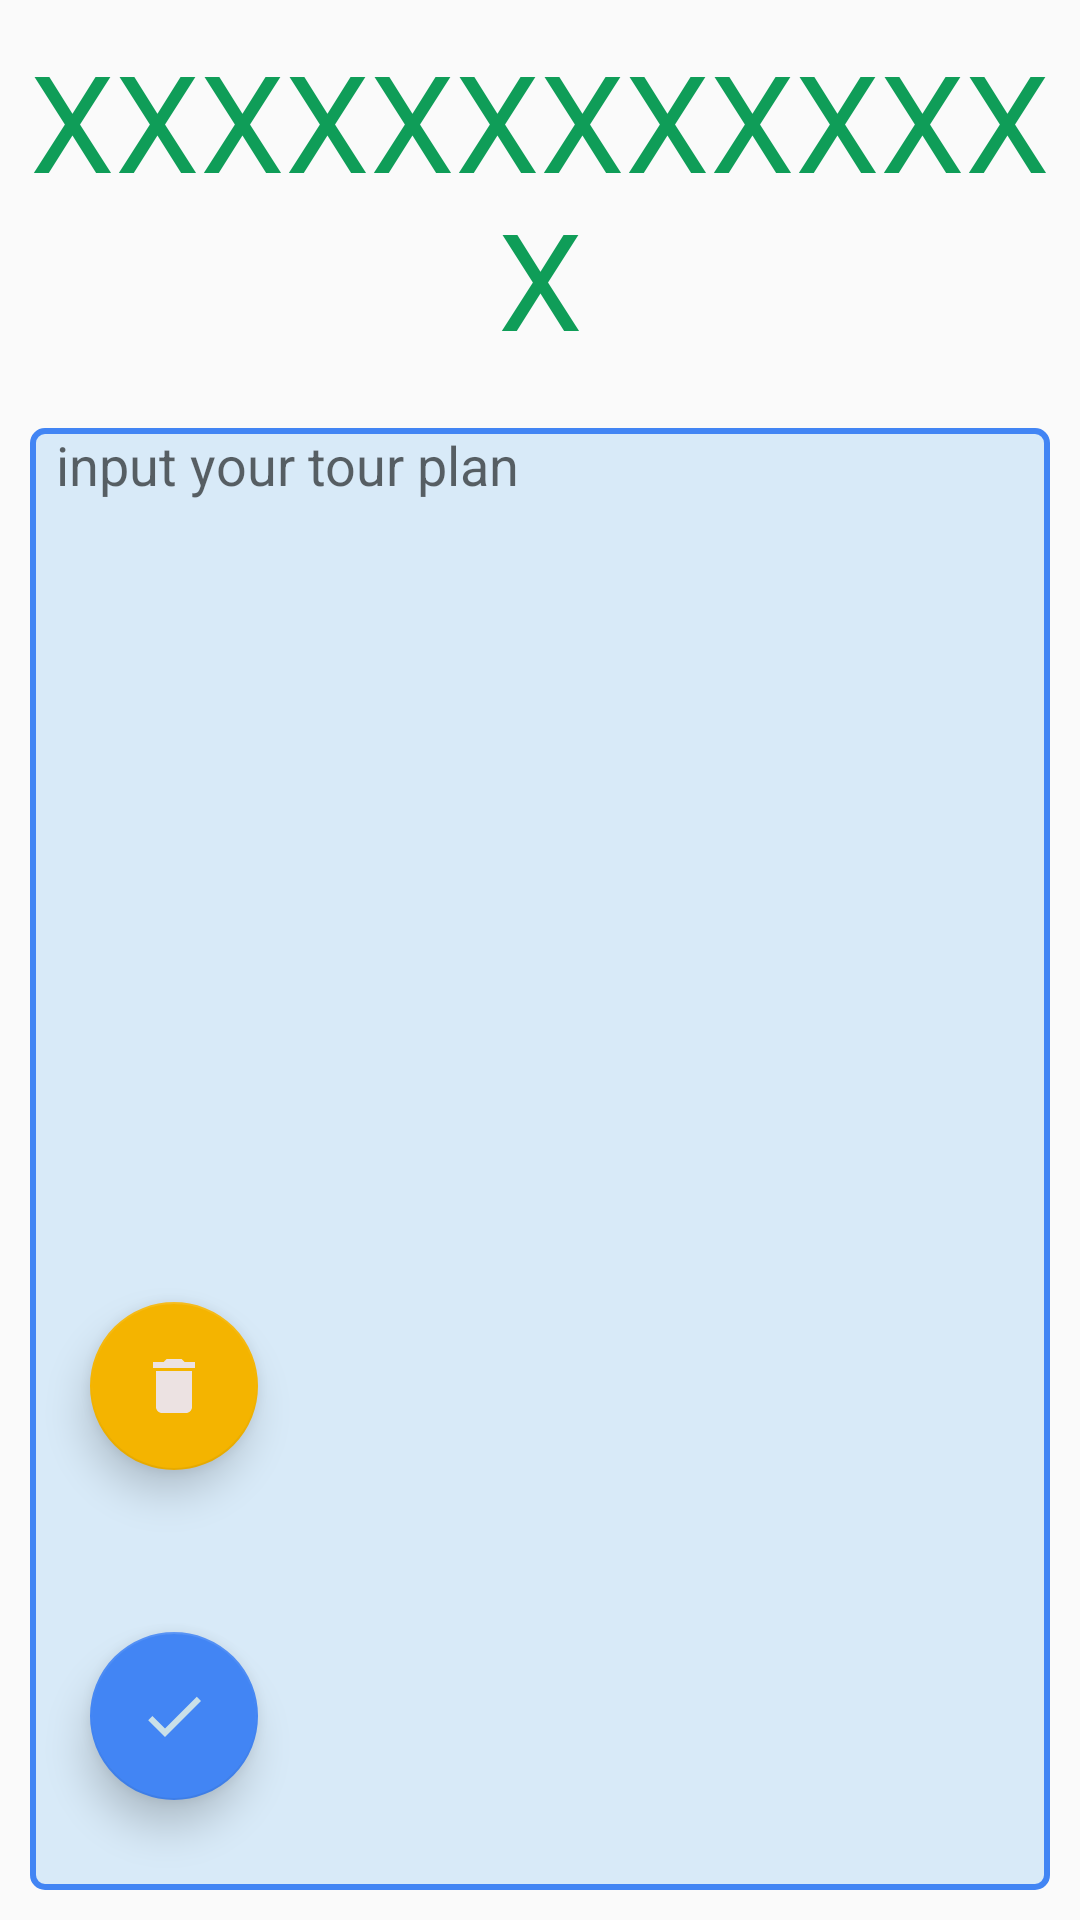

Icon bounding boxes for this 1080×1920 phone screenshot, format (x1, y1, x2, y2):
delete: (90, 1302, 258, 1470)
done: (90, 1632, 258, 1800)
